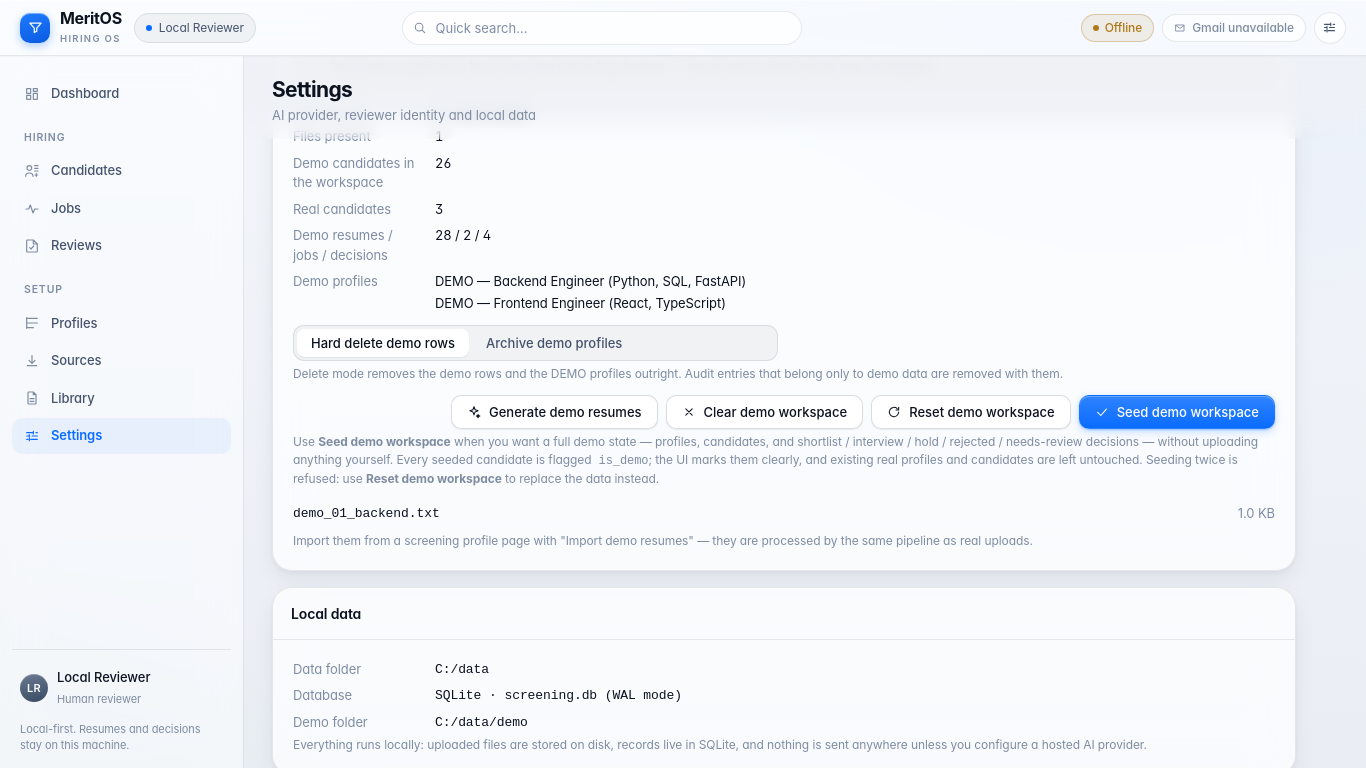
Scenario: demo workspace controls › documents the method used and keeps the real count visible after a clear
(page scrolled)
Click the button "Clear demo workspace".
click(764, 412)  # box [666,395,863,429]
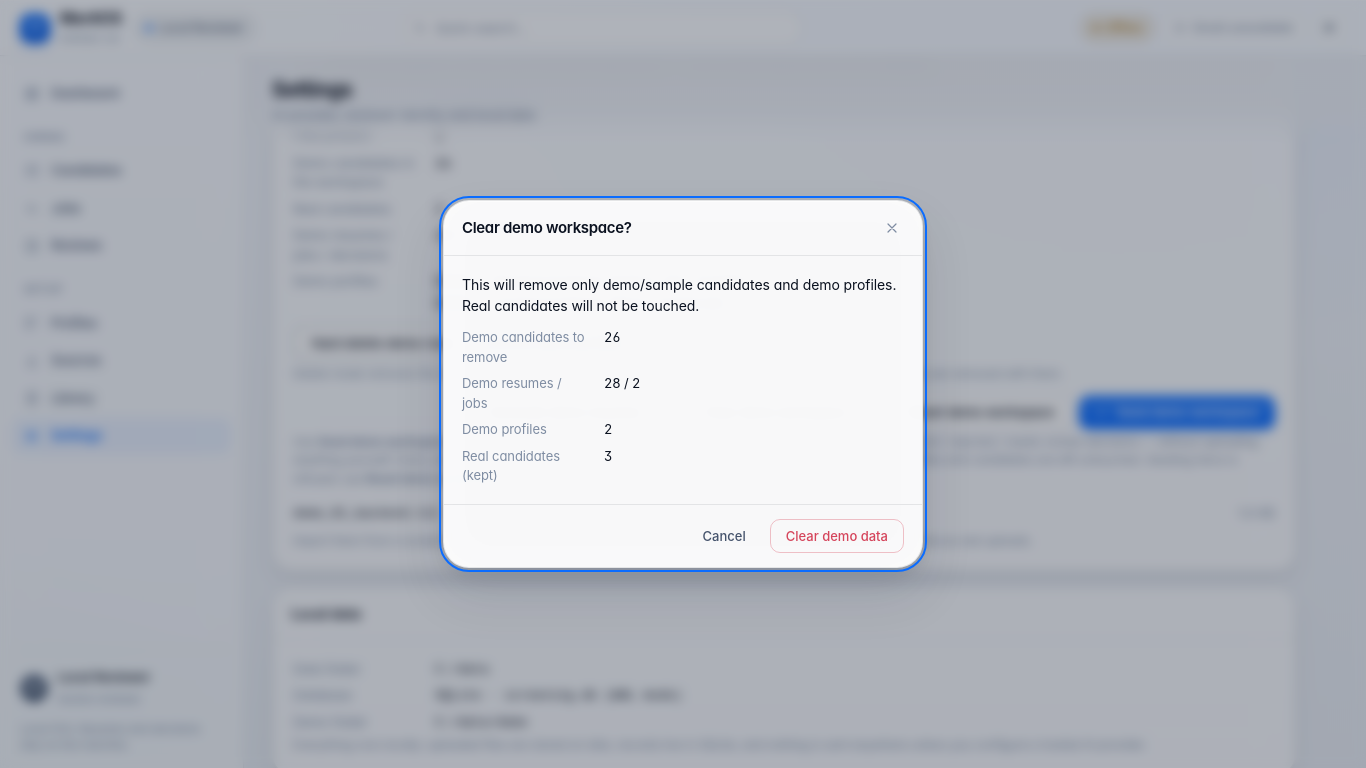
Check: the dialog "Clear demo workspace?" is shown, box [443,200,923,568]
Click the button "Clear demo data".
click(837, 536)  # box [770,519,904,553]
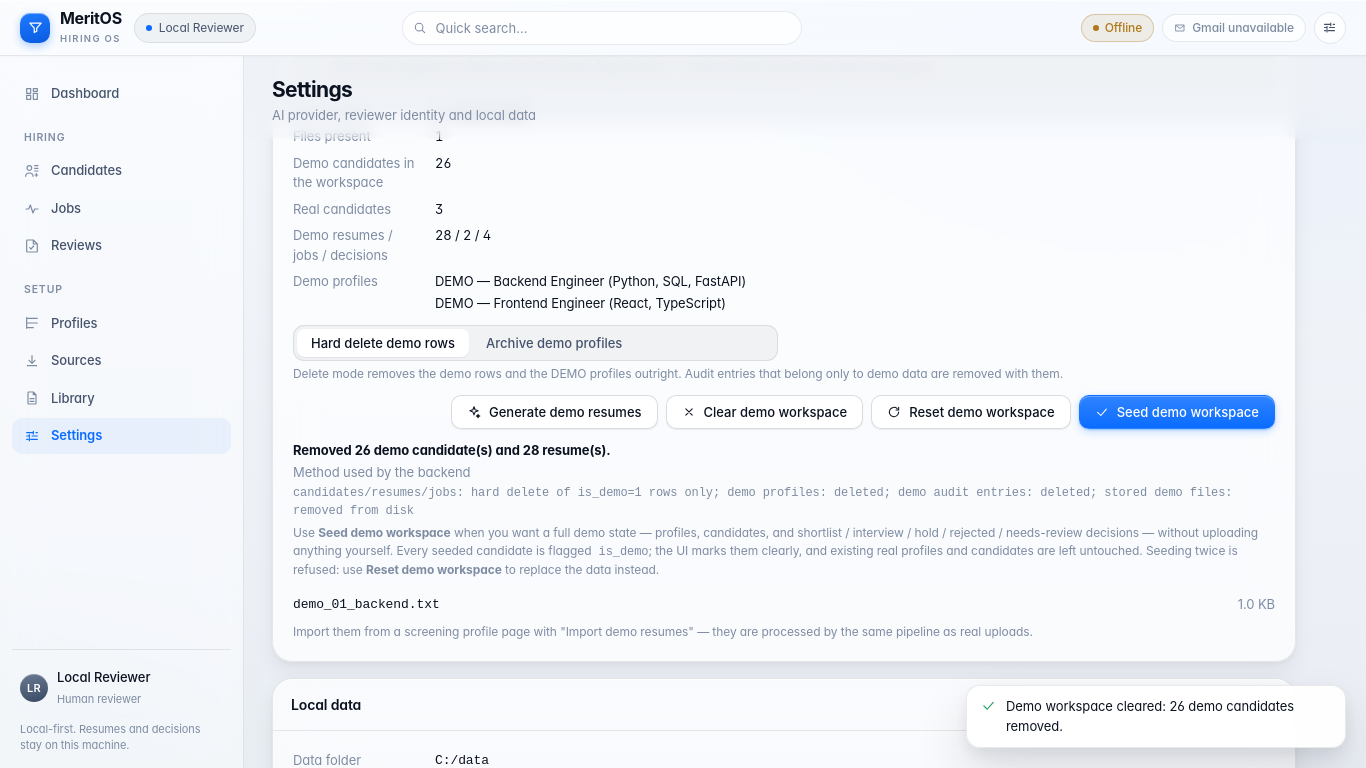
Check: the text "candidates/resumes/jobs: hard delete of is_demo=1 rows only; demo profiles: deleted; demo audit entries: deleted; stored" is shown, box [293,486,1232,518]
